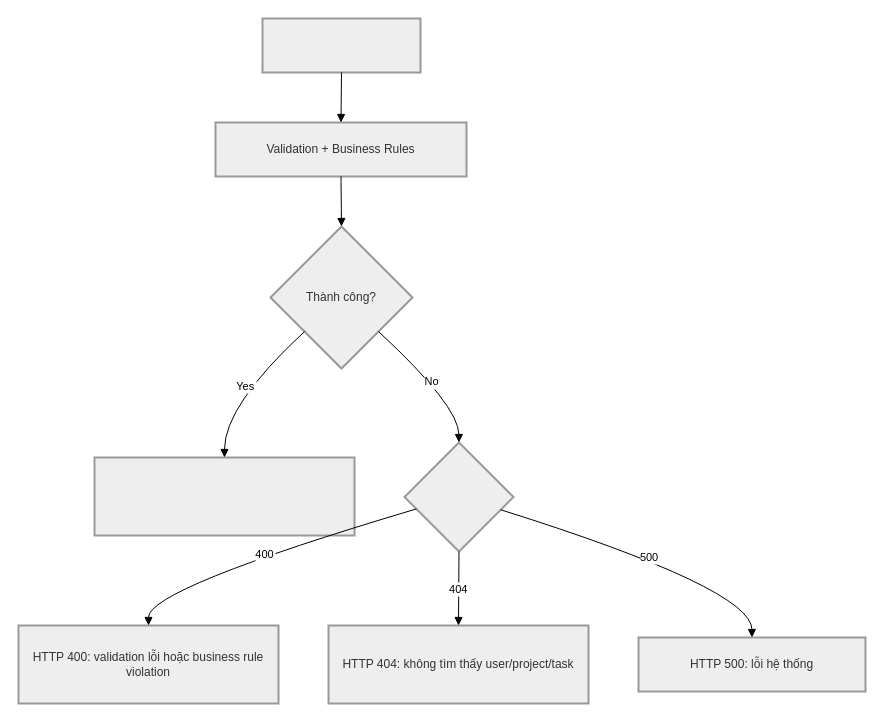
Some shapes in this 883 by 721 pixel diagram are drawn without their labels. Each missing label, with the centre of its shape:
"Loại lỗi" goes at point (458, 496).
"Trả 200 OK (ApiResponse success)" goes at point (224, 496).
"Xử lý Request" goes at point (341, 45).
